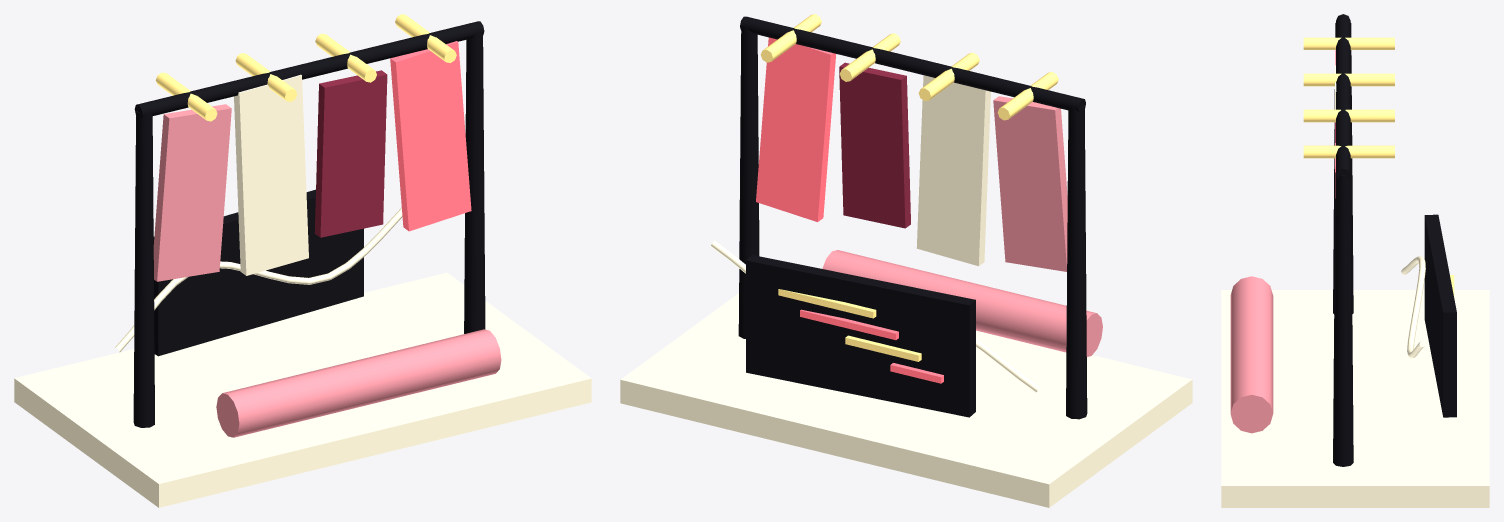
Rendered from atelier-swatch-stand.glb.
3 renders of one model, left to right at view 1: azimuth 30°, elevation 25°; view 2: azimuth 150°, elevation 25°; view 3: azimuth 270°, elevation 25°, orthographic. The views are drawn at different scales.
Visible parts, largest first — view 1: swatch-stand-base, sample-ledger-board, rolled-cloth-low, hanging-swatch-cream, hanging-swatch-signal, hanging-swatch-coral, hanging-swatch-deep, stand-left-post, stand-right-post, stand-top-bar, chalk-silhouette-thread, swatch-pin-deep (+3 smaller); view 2: swatch-stand-base, sample-ledger-board, hanging-swatch-cream, hanging-swatch-signal, hanging-swatch-coral, hanging-swatch-deep, rolled-cloth-low, stand-left-post, stand-top-bar, stand-right-post, sample-ledger-line-2, chalk-silhouette-thread (+6 smaller); view 3: swatch-stand-base, rolled-cloth-low, stand-right-post, sample-ledger-board, stand-top-bar, swatch-pin-deep, swatch-pin-cream, swatch-pin-signal, swatch-pin-coral, chalk-silhouette-thread, stand-left-post.
Part boxes in pixels (x1,y1,x2,y2): swatch-stand-base: (14, 272, 591, 507); sample-ledger-board: (153, 189, 363, 356); rolled-cloth-low: (216, 329, 501, 437); hanging-swatch-cream: (234, 74, 308, 275); hanging-swatch-signal: (390, 41, 471, 231); hanging-swatch-coral: (153, 104, 231, 281); hanging-swatch-deep: (314, 70, 387, 237); stand-left-post: (133, 110, 154, 427); stand-right-post: (464, 32, 485, 333); stand-top-bar: (134, 21, 484, 118); chalk-silhouette-thread: (115, 208, 402, 352); swatch-pin-deep: (315, 33, 376, 82); swatch-stand-base: (620, 293, 1192, 507); sample-ledger-board: (746, 255, 975, 417); hanging-swatch-cream: (916, 75, 990, 266); hanging-swatch-signal: (756, 37, 836, 222); hanging-swatch-coral: (993, 96, 1067, 271); hanging-swatch-deep: (839, 62, 910, 228); rolled-cloth-low: (822, 250, 1102, 356); stand-left-post: (1066, 104, 1087, 419); stand-top-bar: (740, 16, 1085, 113); stand-right-post: (738, 27, 759, 338); sample-ledger-line-2: (800, 309, 898, 340); chalk-silhouette-thread: (711, 240, 1039, 392); swatch-stand-base: (1221, 290, 1489, 507); rolled-cloth-low: (1230, 276, 1273, 433); stand-right-post: (1333, 172, 1353, 466); sample-ledger-board: (1424, 214, 1456, 417); stand-top-bar: (1336, 14, 1350, 179); swatch-pin-deep: (1303, 109, 1394, 122); swatch-pin-cream: (1303, 73, 1394, 86); swatch-pin-signal: (1303, 145, 1394, 158); swatch-pin-coral: (1303, 37, 1394, 49); chalk-silhouette-thread: (1401, 256, 1425, 357); stand-left-post: (1333, 23, 1353, 314).
Size of the model in its own units: 1.52 by 1.15 by 0.88.
